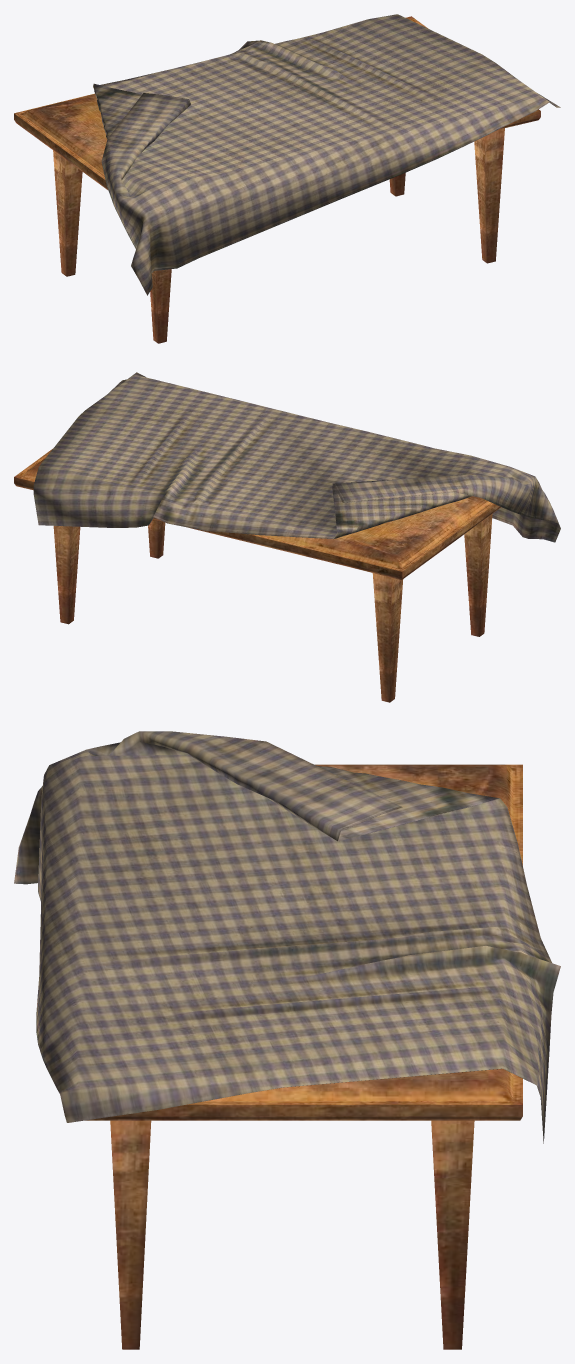
The model's file is dining_table.glb.
3 views of the same model, one above another, from view 1: azimuth 30°, elevation 25°; view 2: azimuth 150°, elevation 25°; view 3: azimuth 270°, elevation 25° (orthographic). The views are drawn at different scales.
Parts seen in each view (by area): view 1: dining_table; view 2: dining_table; view 3: dining_table.
Part boxes in pixels (x1,y1,x2,y2): dining_table: [14, 14, 560, 343]; dining_table: [14, 372, 560, 702]; dining_table: [14, 731, 560, 1349].
Size of the model in its own units: 2.26 by 0.877 by 1.39.
Materials: 1 (1 with a texture image).
